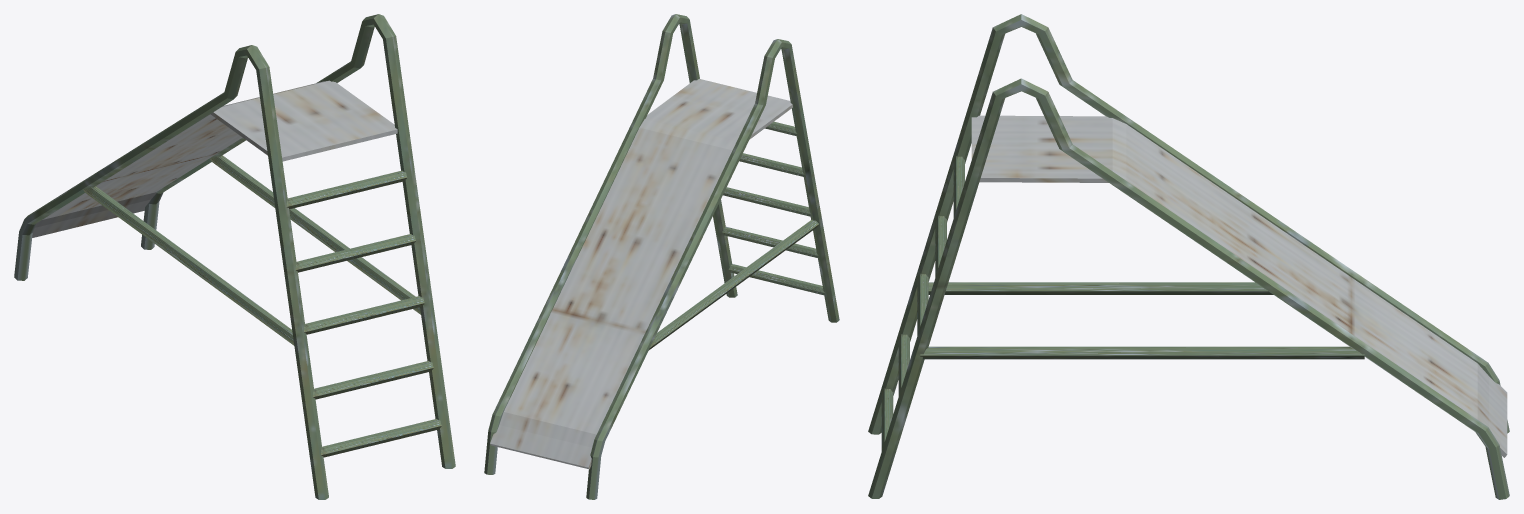
File: Slide.fbx
3 renders of one model, left to right at view 1: azimuth 30°, elevation 25°; view 2: azimuth 150°, elevation 25°; view 3: azimuth 270°, elevation 25°, orthographic. The views are drawn at different scales.
Visible parts, largest first — view 1: Slide; view 2: Slide; view 3: Slide.
Part boxes in pixels (<box>): Slide: <box>14,14,455,499</box>; Slide: <box>484,14,839,499</box>; Slide: <box>868,14,1509,499</box>.
Bounding box in the file's own units: 83.01 × 232 × 322.
